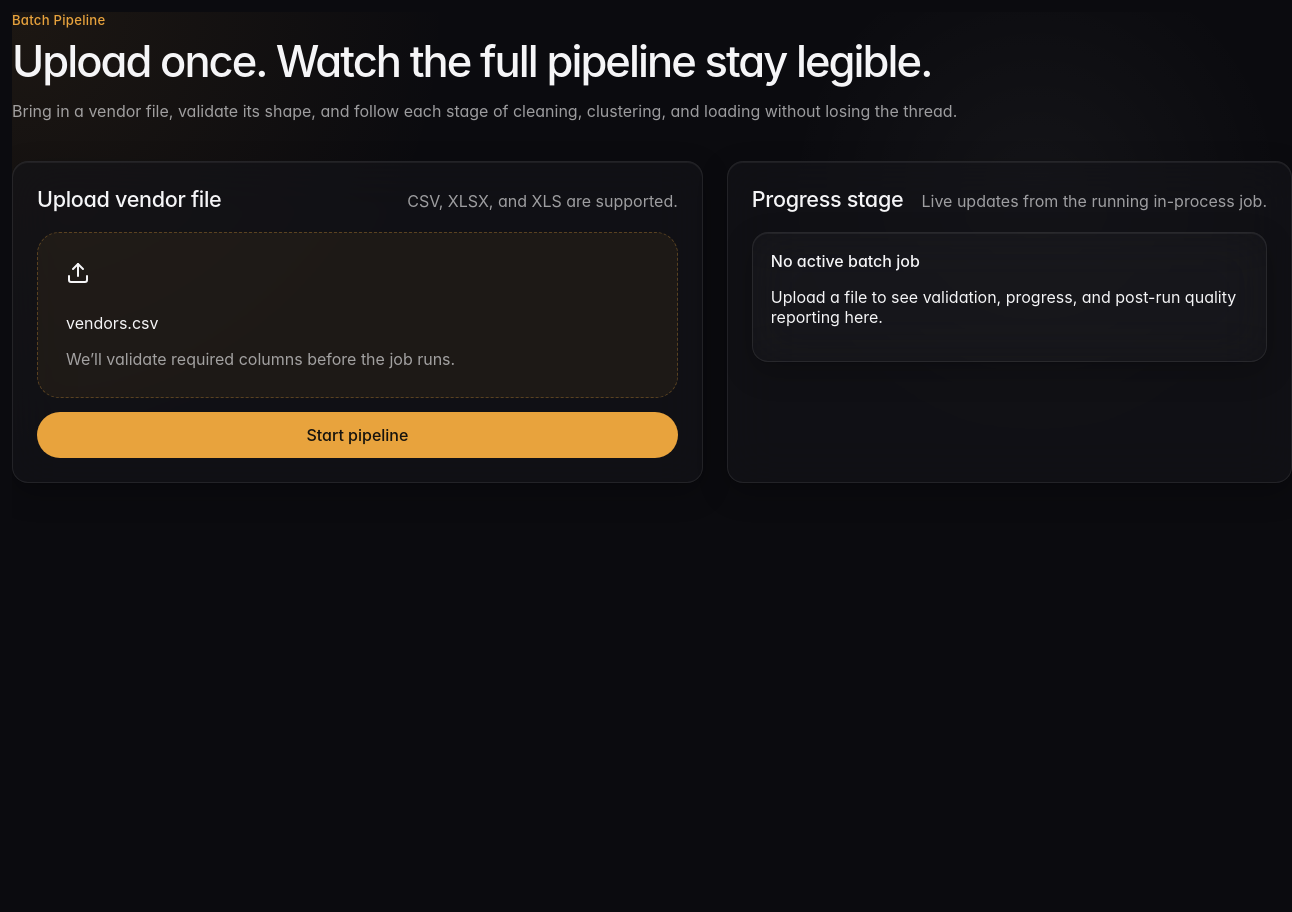
Scenario: frontend pages › renders batch validation after upload
Earlier steps of the test are not shown.
Click the button "Start pipeline".
click(357, 435)  # box [37,412,678,458]
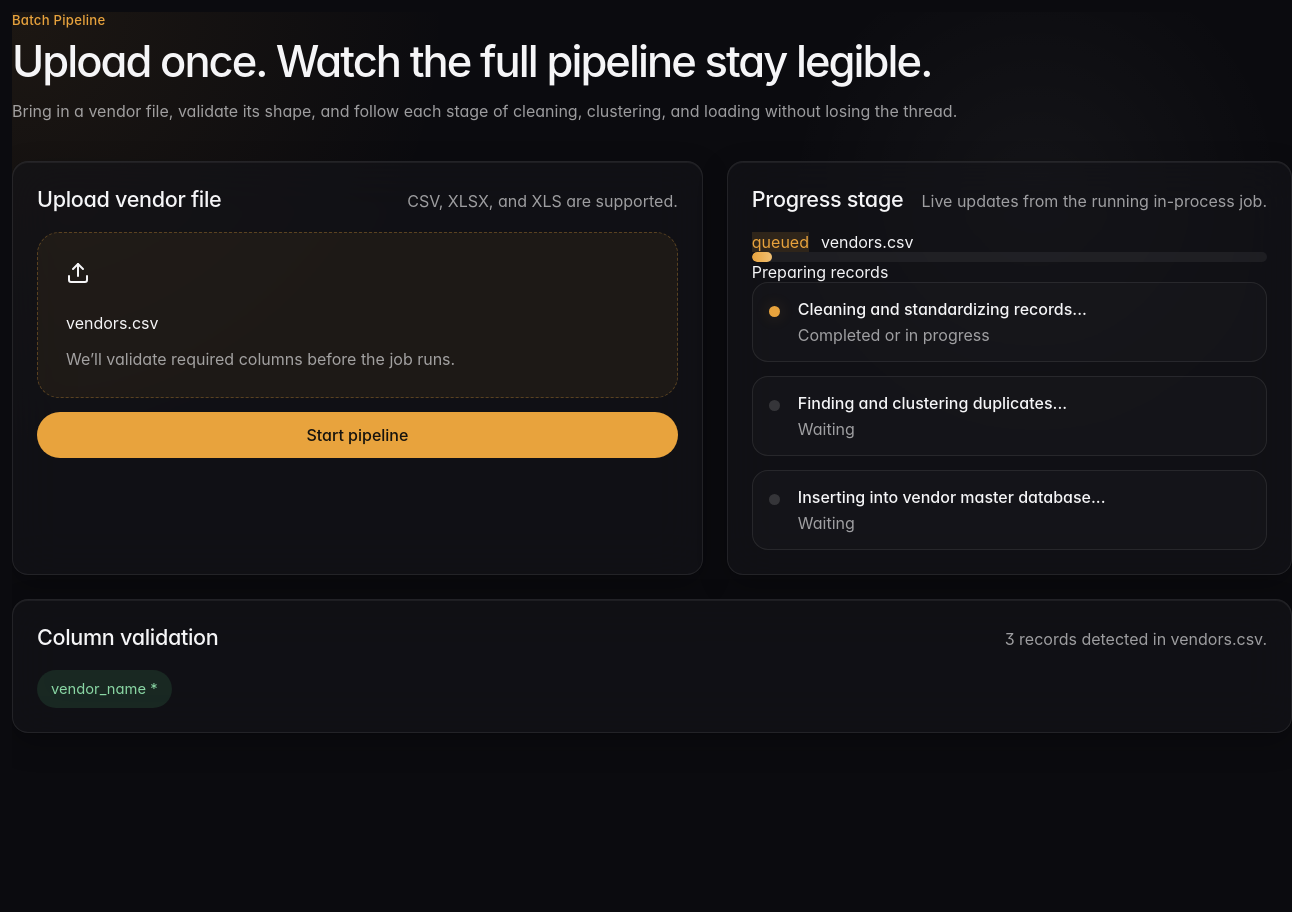
Expected: the heading "Column validation" is shown, [37,624,218,650]
Expected: the text "vendor_name *" is shown, [37,670,172,708]
